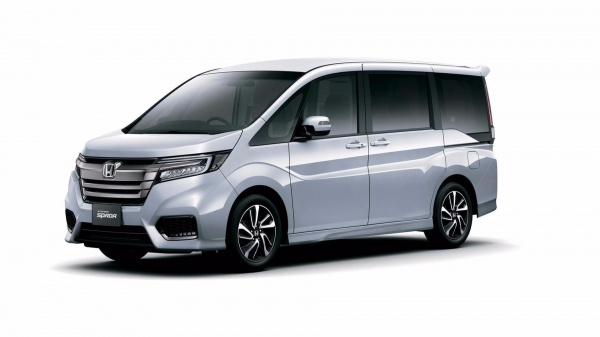van: (61, 54, 500, 272)
